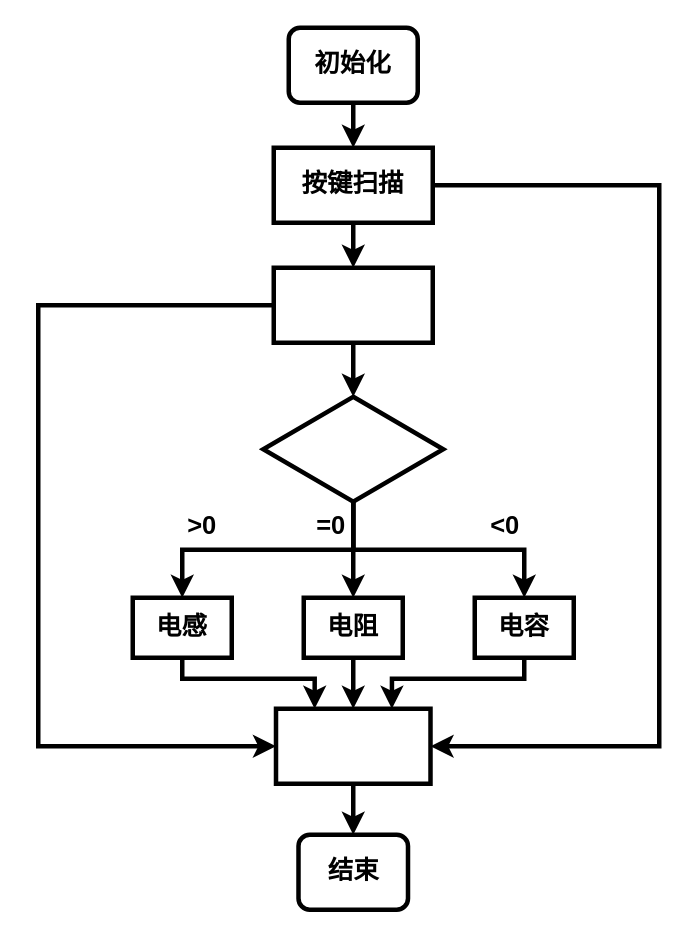
This 699x938 diagram has some shape labels left out. The shapes that lost their labels are listed below. From the top down, each one's centre as x and y in pixels, then its label:
At point (352, 304): "计算复阻抗".
At point (352, 448): "虚部判断".
At point (352, 745): "OLED显示".
